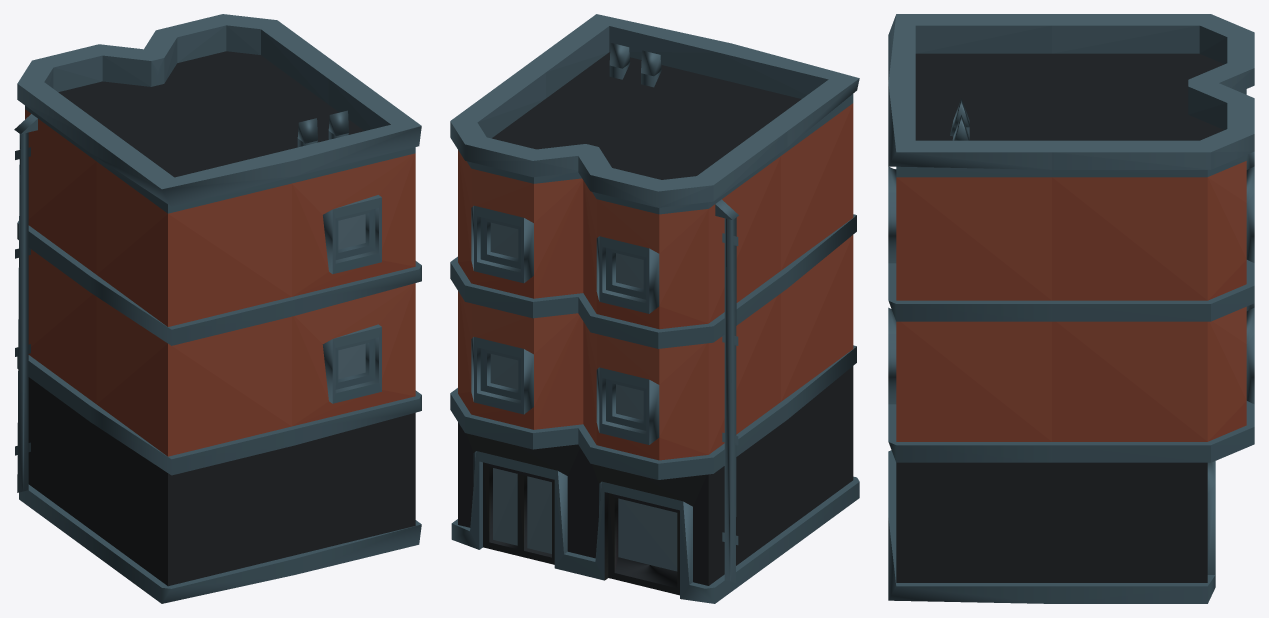
The model's file is building-a.low.3bc64f10.glb.
The picture shows the model from 3 angles, left to right: view 1: azimuth 30°, elevation 25°; view 2: azimuth 150°, elevation 25°; view 3: azimuth 270°, elevation 25°; orthographic projection. The views are drawn at different scales.
Parts seen in each view (by area): view 1: building-a; view 2: building-a; view 3: building-a.
Part boxes in pixels (bbox=[...]): building-a: bbox=[14, 14, 421, 603]; building-a: bbox=[450, 14, 859, 603]; building-a: bbox=[888, 14, 1254, 603].
Size of the model in its own units: 10.6 by 15.52 by 11.28.
